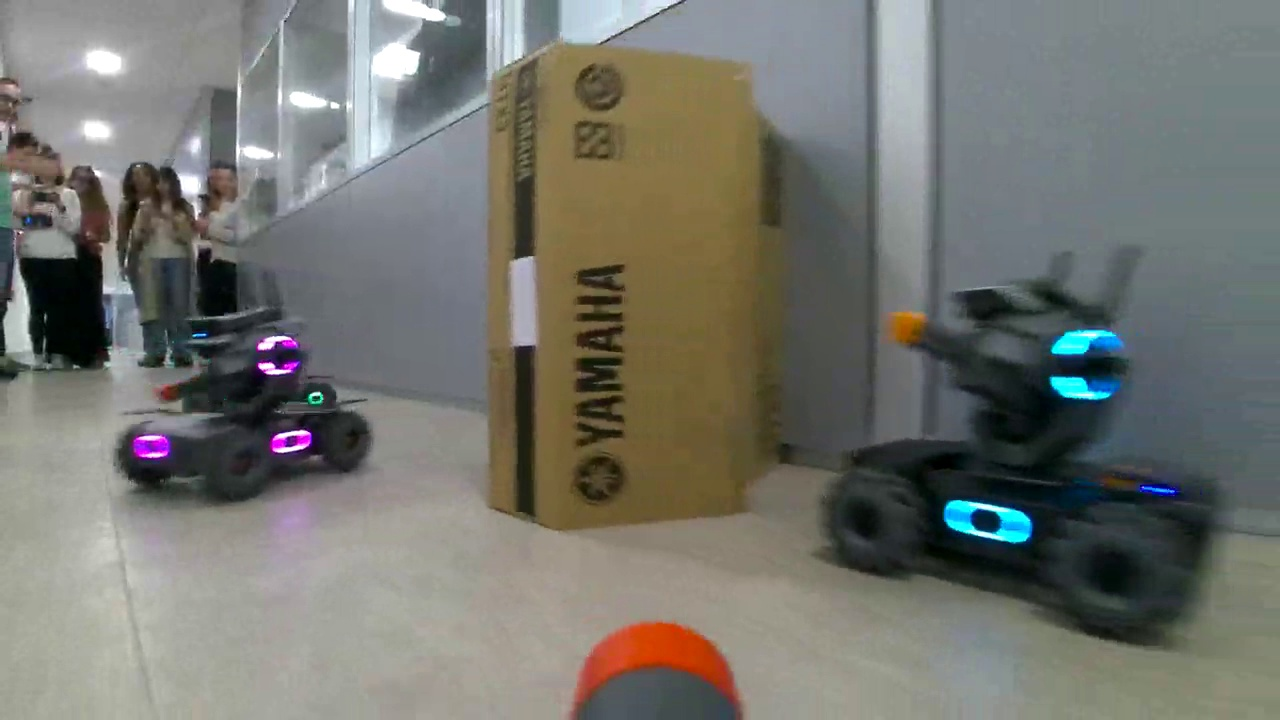robot: (811, 283, 1202, 650), (112, 304, 372, 503)
